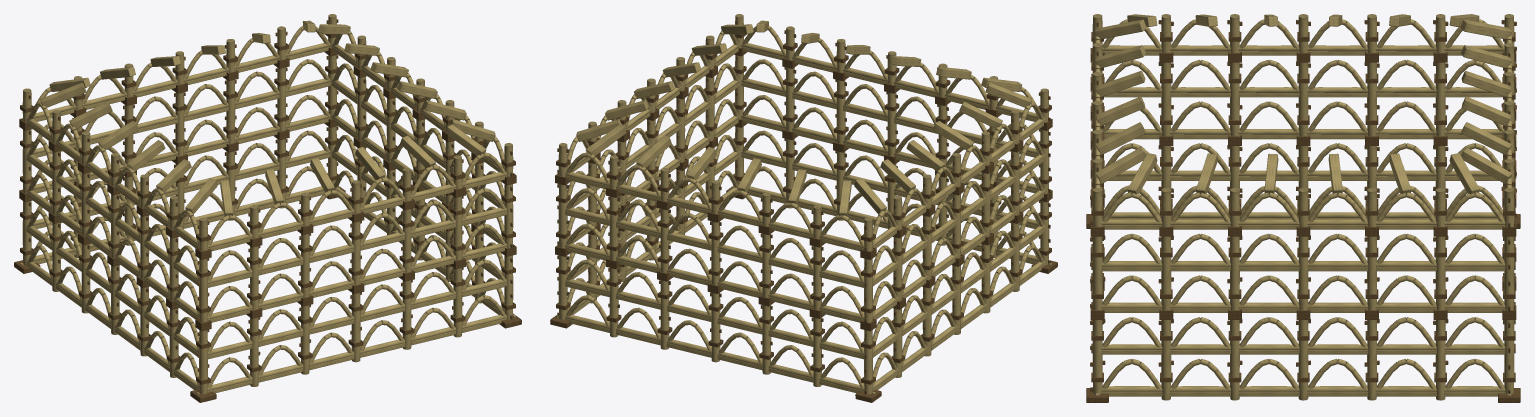
3 views of the same model, side by side, from view 1: azimuth 30°, elevation 25°; view 2: azimuth 150°, elevation 25°; view 3: azimuth 270°, elevation 25° (orthographic). The views are drawn at different scales.
Visible parts, largest first — view 1: Tier 0 side 0 post 4, Tier 0 side 0 post 5, Tier 0 side 0 post 3, Tier 0 side 0 post 2, Tier 0 side 0 post 1, Crown petal 3-0, Crown petal 0-5, Tier 1 side 0 post 4, Tier 1 side 0 post 5, Tier 1 side 2 post 3, Tier 1 side 0 post 3, Crown petal 3-1 (+21 smaller); view 2: Tier 0 side 2 post 1, Tier 0 side 2 post 2, Tier 0 side 2 post 3, Tier 0 side 2 post 4, Crown petal 3-5, Tier 0 side 2 post 5, Tier 1 side 2 post 1, Tier 1 side 2 post 2, Tier 1 side 2 post 3, Crown petal 2-0, Tier 1 side 0 post 3, Crown petal 3-4 (+21 smaller); view 3: Tier 0 side 1 post 3, Tier 0 side 1 post 1, Tier 0 side 1 post 5, Crown petal 2-0, Crown petal 0-5, Tier 1 side 1 post 3, Tier 1 side 3 post 3, Tier 0 side 1 post 4, Tier 0 side 1 post 2, Crown petal 2-1, Tier 1 side 1 post 0, Tier 1 side 3 post 5 (+34 smaller).
Boxes of the visible parts, left/top/right/bottom form: Tier 0 side 0 post 4: left=402, top=280, right=411, bottom=349; Tier 0 side 0 post 5: left=453, top=268, right=462, bottom=337; Tier 0 side 0 post 3: left=351, top=293, right=360, bottom=362; Tier 0 side 0 post 2: left=300, top=305, right=309, bottom=374; Tier 0 side 0 post 1: left=250, top=317, right=258, bottom=386; Crown petal 3-0: left=40, top=82, right=86, bottom=107; Crown petal 0-5: left=445, top=124, right=486, bottom=155; Tier 1 side 0 post 4: left=402, top=209, right=411, bottom=273; Tier 1 side 0 post 5: left=453, top=196, right=462, bottom=260; Tier 1 side 2 post 3: left=175, top=92, right=184, bottom=156; Tier 1 side 0 post 3: left=351, top=221, right=360, bottom=285; Crown petal 3-1: left=69, top=101, right=112, bottom=128; Tier 0 side 2 post 1: left=609, top=268, right=618, bottom=337; Tier 0 side 2 post 2: left=660, top=280, right=669, bottom=349; Tier 0 side 2 post 3: left=711, top=293, right=720, bottom=362; Tier 0 side 2 post 4: left=762, top=305, right=771, bottom=374; Crown petal 3-5: left=985, top=82, right=1031, bottom=107; Tier 0 side 2 post 5: left=813, top=317, right=821, bottom=386; Tier 1 side 2 post 1: left=609, top=196, right=618, bottom=260; Tier 1 side 2 post 2: left=660, top=209, right=669, bottom=273; Tier 1 side 2 post 3: left=711, top=221, right=720, bottom=285; Crown petal 2-0: left=585, top=124, right=626, bottom=155; Tier 1 side 0 post 3: left=887, top=92, right=896, bottom=156; Crown petal 3-4: left=959, top=101, right=1002, bottom=128; Tier 0 side 1 post 3: left=1298, top=320, right=1308, bottom=400; Tier 0 side 1 post 1: left=1161, top=320, right=1171, bottom=400; Tier 0 side 1 post 5: left=1435, top=320, right=1445, bottom=400; Crown petal 2-0: left=1461, top=148, right=1512, bottom=183; Crown petal 0-5: left=1095, top=148, right=1145, bottom=183; Tier 1 side 1 post 3: left=1298, top=236, right=1308, bottom=310; Tier 1 side 3 post 3: left=1298, top=62, right=1308, bottom=136; Tier 0 side 1 post 4: left=1367, top=320, right=1376, bottom=400; Tier 0 side 1 post 2: left=1230, top=320, right=1239, bottom=400; Crown petal 2-1: left=1461, top=122, right=1511, bottom=155; Tier 1 side 1 post 0: left=1092, top=236, right=1102, bottom=310; Tier 1 side 3 post 5: left=1161, top=62, right=1171, bottom=136.
Size of the model in its own units: 2.85 by 1.64 by 2.85.
2 materials, 2 textured.
